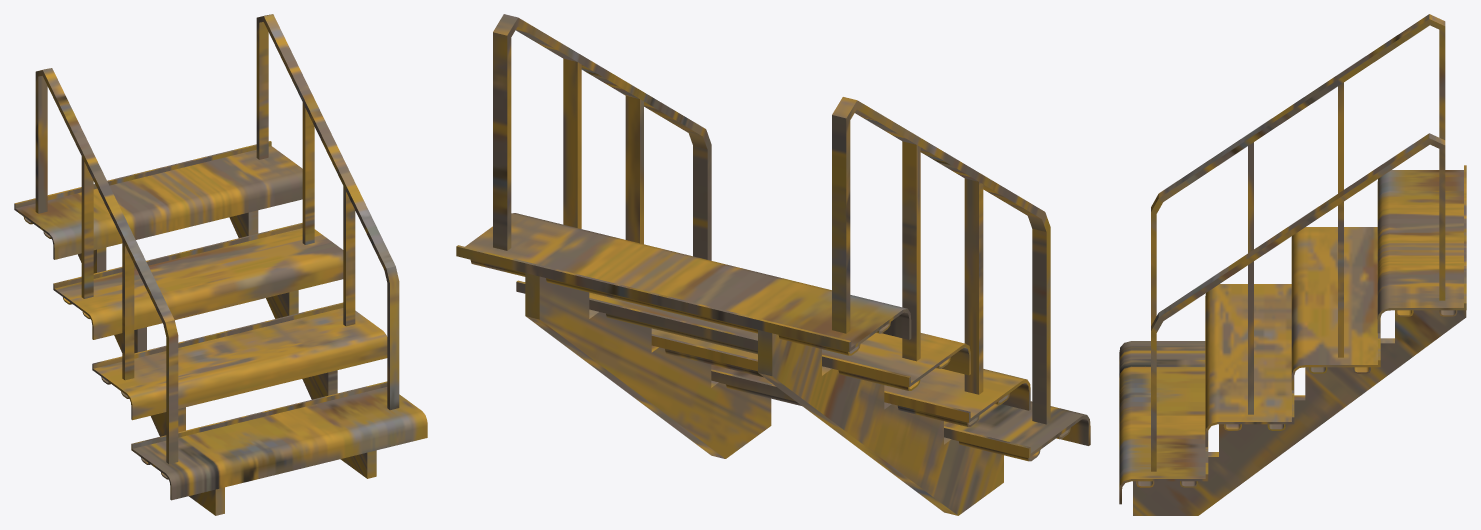
File: SM_Ladder01.gltf
The picture shows the model from 3 angles, left to right: view 1: azimuth 30°, elevation 25°; view 2: azimuth 150°, elevation 25°; view 3: azimuth 270°, elevation 25°; orthographic projection. The views are drawn at different scales.
Parts seen in each view (by area): view 1: SM_Ladder01; view 2: SM_Ladder01; view 3: SM_Ladder01.
Part boxes in pixels (bbox=[...]): SM_Ladder01: bbox=[14, 14, 427, 515]; SM_Ladder01: bbox=[456, 14, 1090, 515]; SM_Ladder01: bbox=[1119, 14, 1466, 515].
Bounding box in the file's own units: 1.51 × 2 × 1.6.
Materials: 1 (1 with a texture image).
